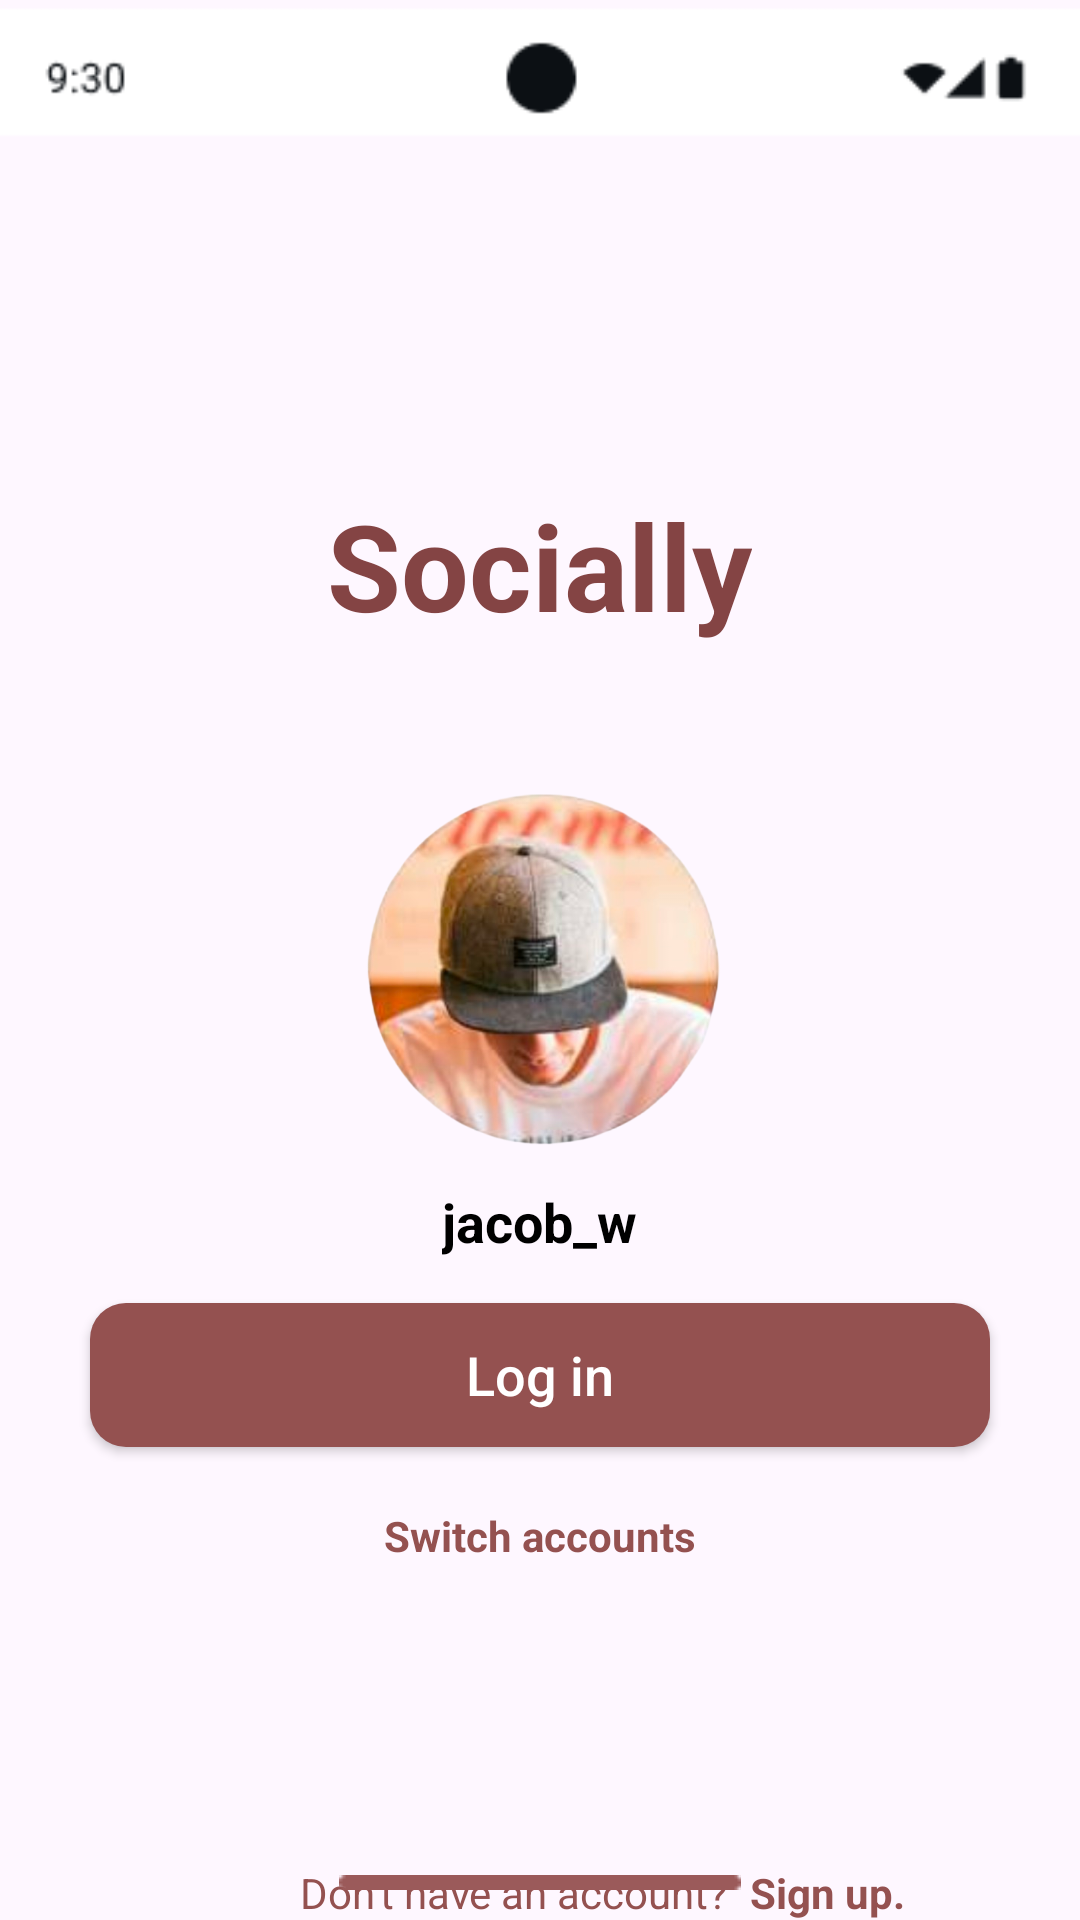

Named icons in this screenshot (1080×1920) and their bounding boxes, (x1, y1, x2, y2):
jacobpfp: (368, 794, 719, 1144)
